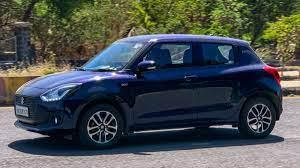Hatchback: (13, 33, 284, 149)
